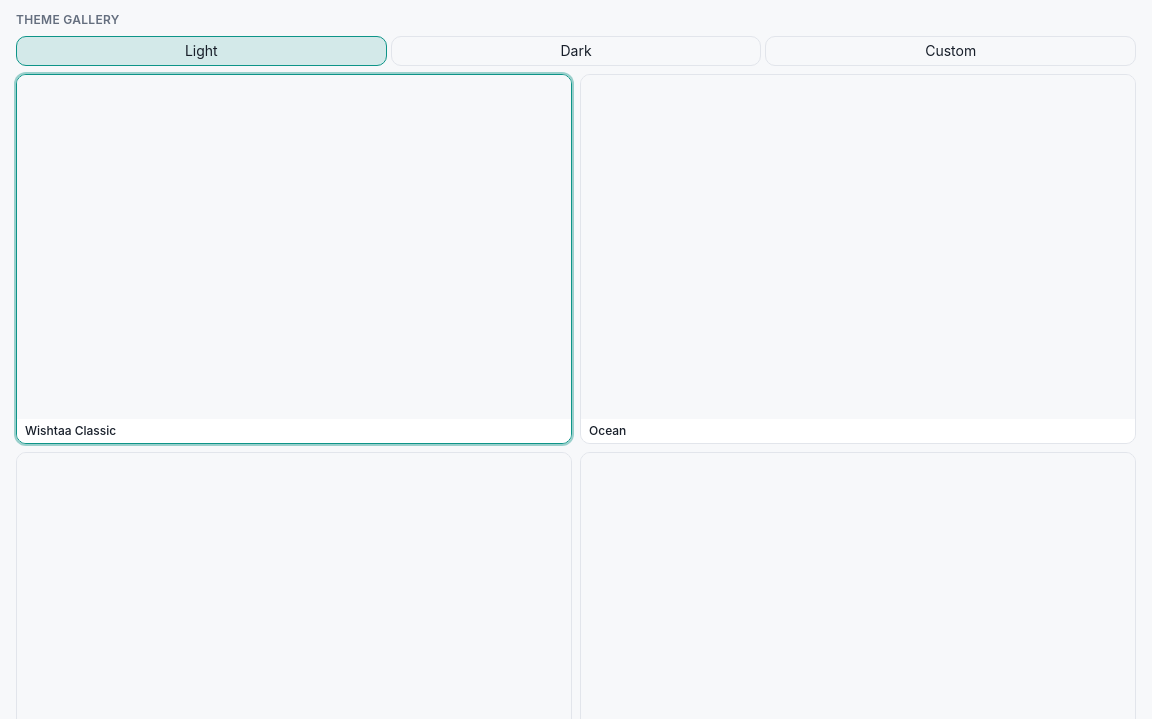
Test: custom themes › starts empty with a hint
The image size is (1152, 719).
Click the tab "custom" at (951, 51), box [765,36,1136,66]
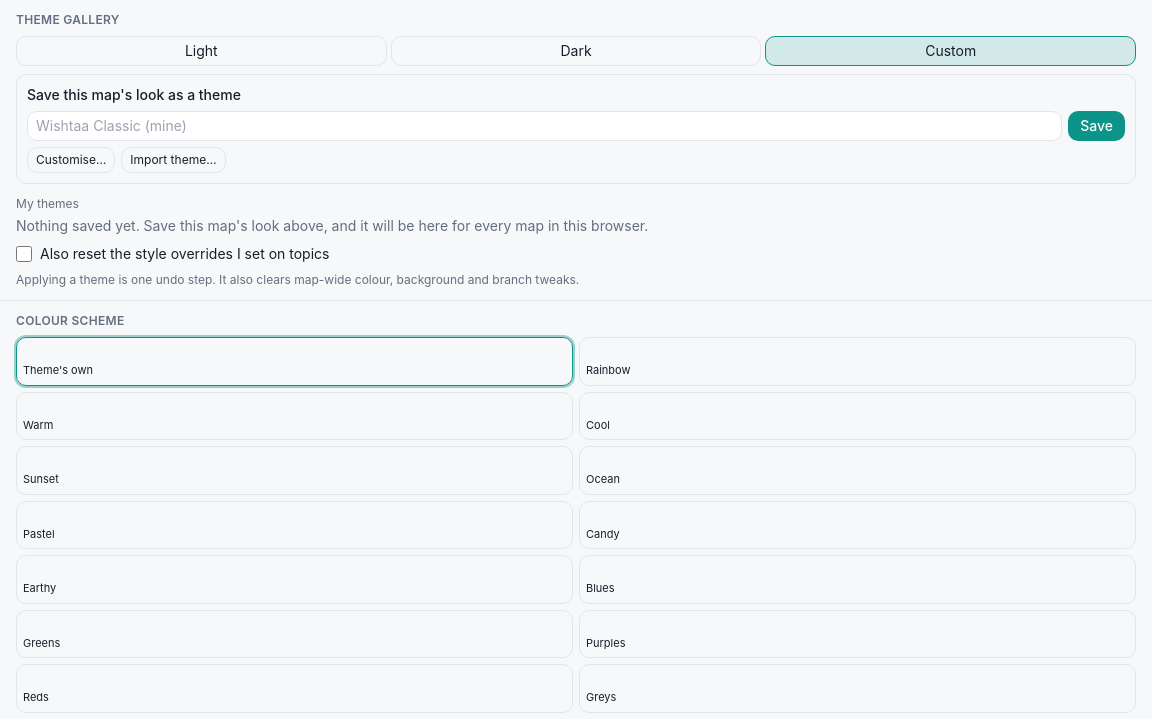
Expected: the text "Nothing saved yet" is shown, [16,217,648,234]
